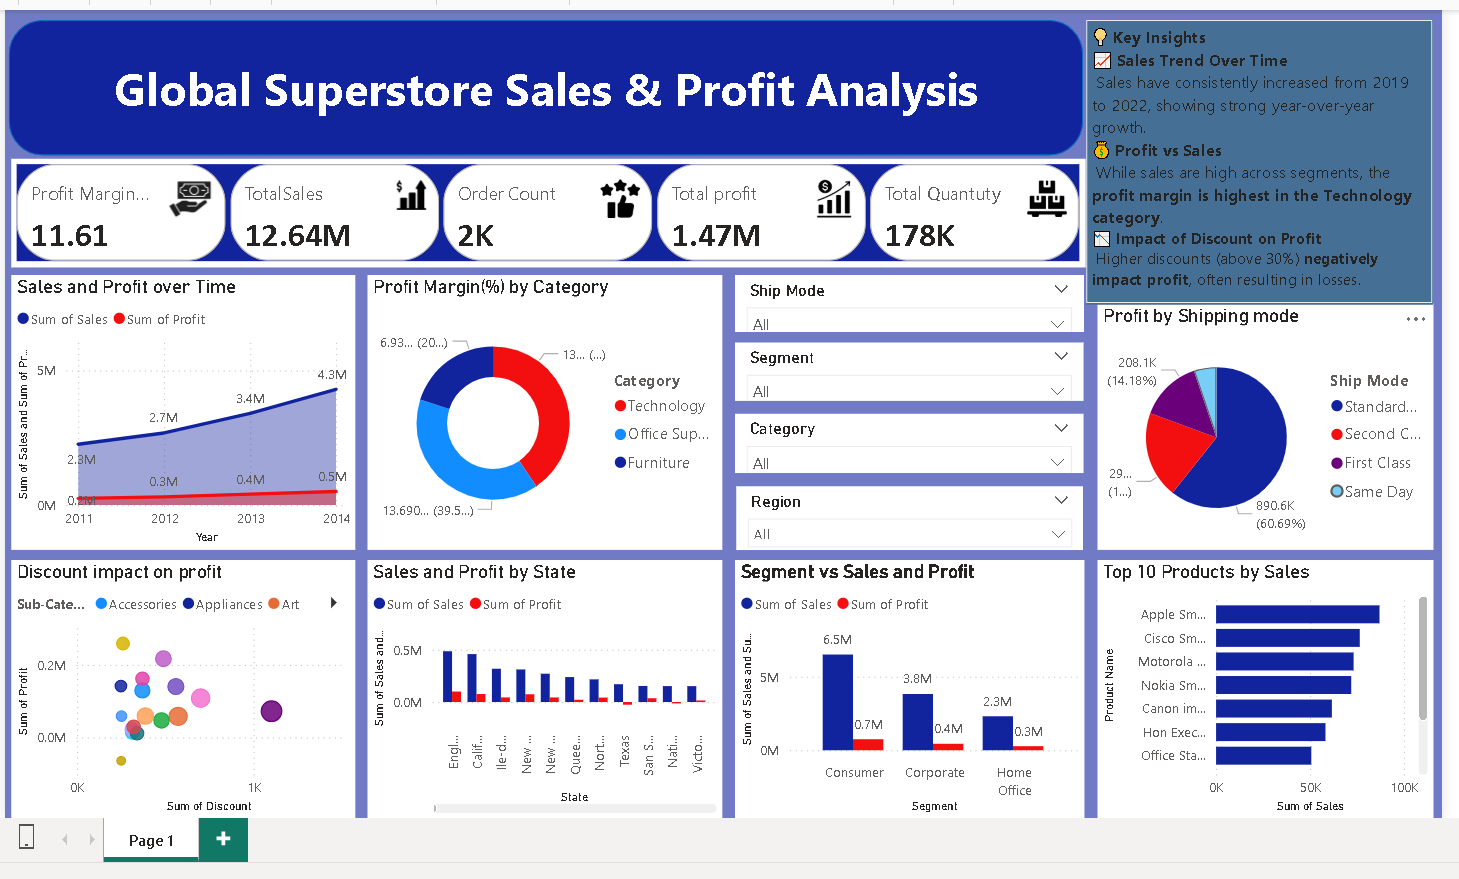

This screenshot's page, from the dashboard's own definition file:
{"tool":"powerbi","page":{"name":"Page 1","canvas":[1280,720],"ordinal":0},"visuals":[{"type":"lineChart","title":"Sales and Profit over Time","fields":{"Category":["Global-Superstore.Order Date.Variation.Date Hierarchy.Year"],"Y":["Sum(Global-Superstore.Sales)","Sum(Global-Superstore.Profit)"]},"box":[6,236.5,306.4,244.9],"z":0},{"type":"clusteredBarChart","title":"Top 10 Products by Sales","fields":{"Category":["Global-Superstore.Product Name"],"Y":["Sum(Global-Superstore.Sales)"]},"box":[972.4,489.8,299.2,230.4],"z":1000},{"type":"clusteredColumnChart","title":"Sales and Profit by State","fields":{"Category":["Global-Superstore.State"],"Y":["Sum(Global-Superstore.Sales)","Sum(Global-Superstore.Profit)"]},"box":[323.3,489.8,316.1,230.4],"z":2000},{"type":"clusteredColumnChart","title":"Segment vs Sales and Profit","fields":{"Category":["Global-Superstore.Segment"],"Y":["Sum(Global-Superstore.Sales)","Sum(Global-Superstore.Profit)"]},"box":[650.3,489.8,311.3,230.4],"z":3000},{"type":"pieChart","title":"Profit by Shipping mode","fields":{"Category":["Global-Superstore.Ship Mode"],"Y":["Sum(Global-Superstore.Profit)"]},"box":[972.4,261.8,299.2,219.6],"z":4000},{"type":"donutChart","title":"Profit Margin(%) by Category","fields":{"Category":["Global-Superstore.Category"],"Y":["Global-Superstore.Profit Margin (%)"]},"box":[323.3,236.5,316.1,244.9],"z":5000},{"type":"scatterChart","title":"Discount impact on profit","fields":{"X":["Sum(Global-Superstore.Discount)"],"Y":["Sum(Global-Superstore.Profit)"],"Size":["Sum(Global-Superstore.Quantity)"],"Series":["Global-Superstore.Sub-Category"]},"box":[6,489.8,306.4,230.4],"z":6000},{"type":"cardVisual","fields":{"Data":["Global-Superstore.Profit Margin (%)","Global-Superstore.TotalSales","Global-Superstore.Order Count","Global-Superstore.Total profit","Global-Superstore.Total Quantuty"]},"box":[6,132.7,956.7,96.5],"z":7000},{"type":"slicer","fields":{"Values":["Global-Superstore.Region"]},"box":[651.5,424.7,308.8,56.7],"z":8000},{"type":"slicer","fields":{"Values":["Global-Superstore.Category"]},"box":[650.3,359.5,310.1,53.1],"z":9000},{"type":"slicer","fields":{"Values":["Global-Superstore.Segment"]},"box":[650.3,295.6,310.1,51.9],"z":10000},{"type":"slicer","fields":{"Values":["Global-Superstore.Ship Mode"]},"box":[650.3,236.5,310.1,50.7],"z":11000},{"type":"textbox","box":[962.7,8.4,308.8,253.4],"z":12000},{"type":"shape","box":[3.6,8.4,956.7,120.6],"z":13000}]}

Visuals, with their boxes in screenshot pixels (x1, y1, x2, y2):
"Sales and Profit over Time" lineChart: Rect(7, 273, 351, 549)
"Top 10 Products by Sales" clusteredBarChart: Rect(1093, 558, 1429, 817)
"Sales and Profit by State" clusteredColumnChart: Rect(363, 558, 719, 817)
"Segment vs Sales and Profit" clusteredColumnChart: Rect(731, 558, 1081, 817)
"Profit by Shipping mode" pieChart: Rect(1093, 302, 1429, 549)
"Profit Margin(%) by Category" donutChart: Rect(363, 273, 719, 549)
"Discount impact on profit" scatterChart: Rect(7, 558, 351, 817)
cardVisual - Global-Superstore.Profit Margin (%) x Global-Superstore.TotalSales: Rect(7, 157, 1082, 265)
slicer - Global-Superstore.Region: Rect(732, 485, 1079, 549)
slicer - Global-Superstore.Category: Rect(731, 412, 1080, 471)
slicer - Global-Superstore.Segment: Rect(731, 340, 1080, 398)
slicer - Global-Superstore.Ship Mode: Rect(731, 273, 1080, 330)
textbox: Rect(1082, 17, 1429, 302)
shape: Rect(4, 17, 1079, 153)
